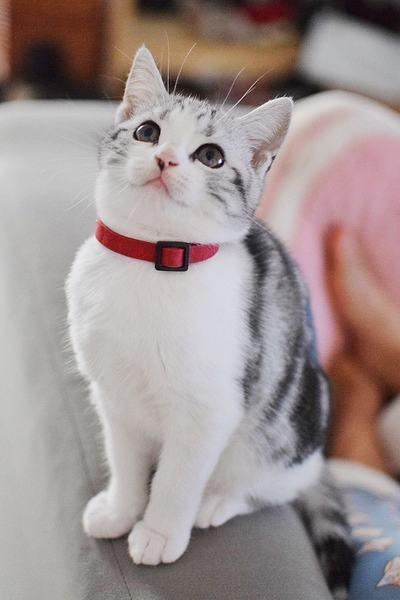cat: (70, 41, 327, 247)
